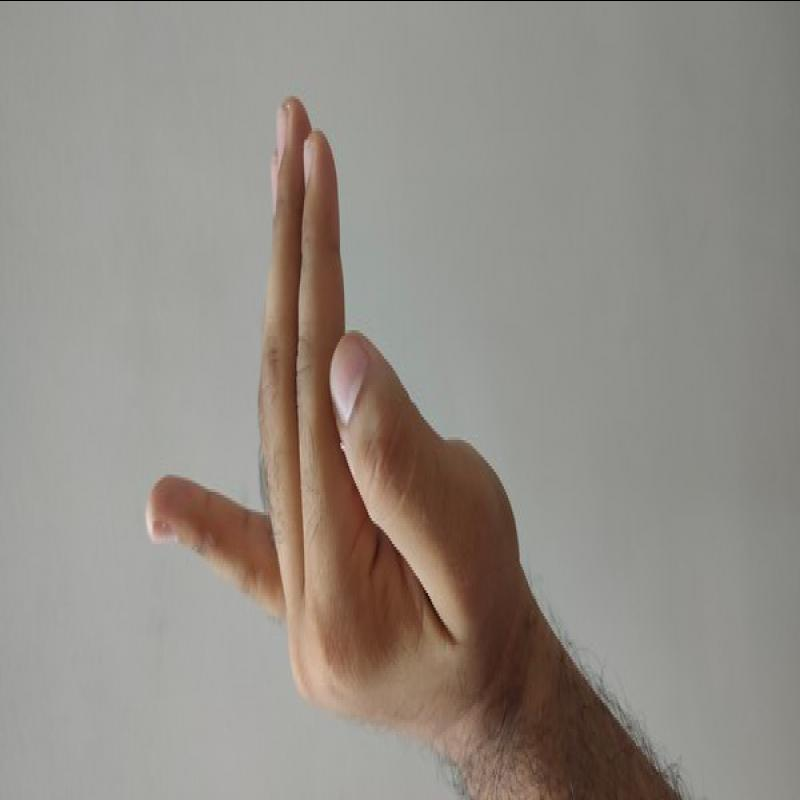Kartharee Mukham: (118, 85, 534, 751)
